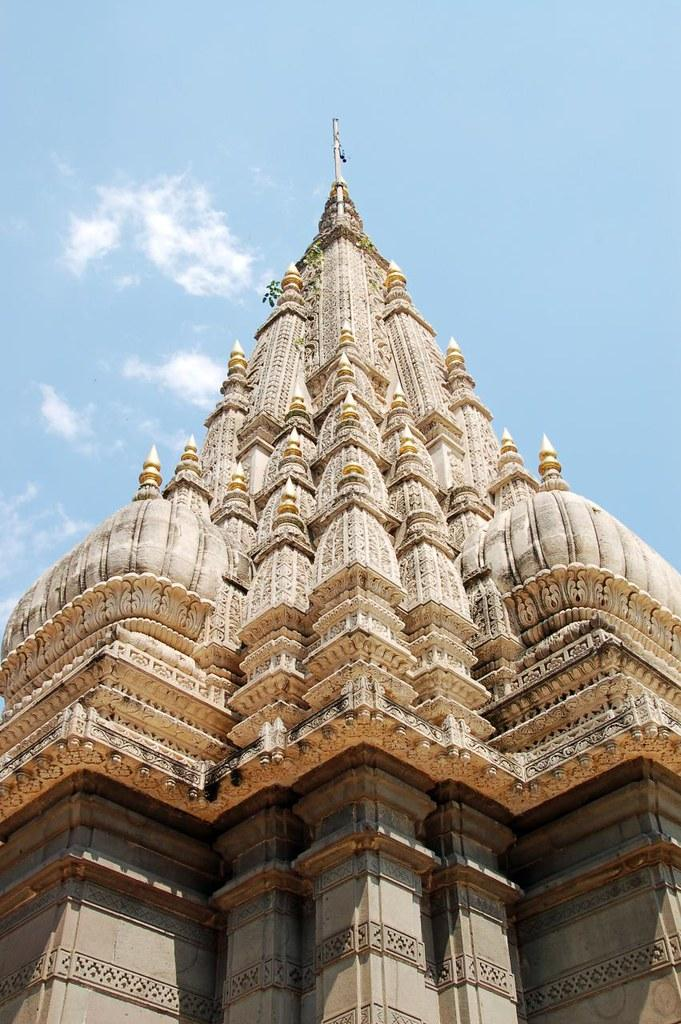temple: (2, 116, 680, 1023)
